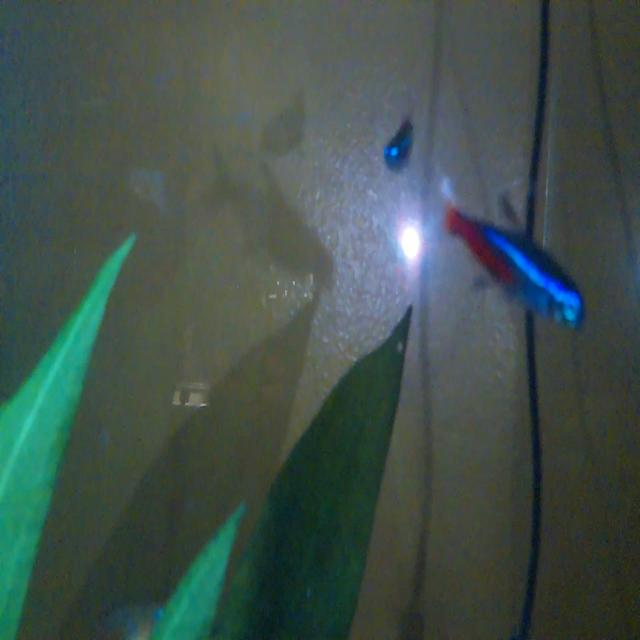fish: (437, 182, 594, 347), (372, 102, 425, 182)
